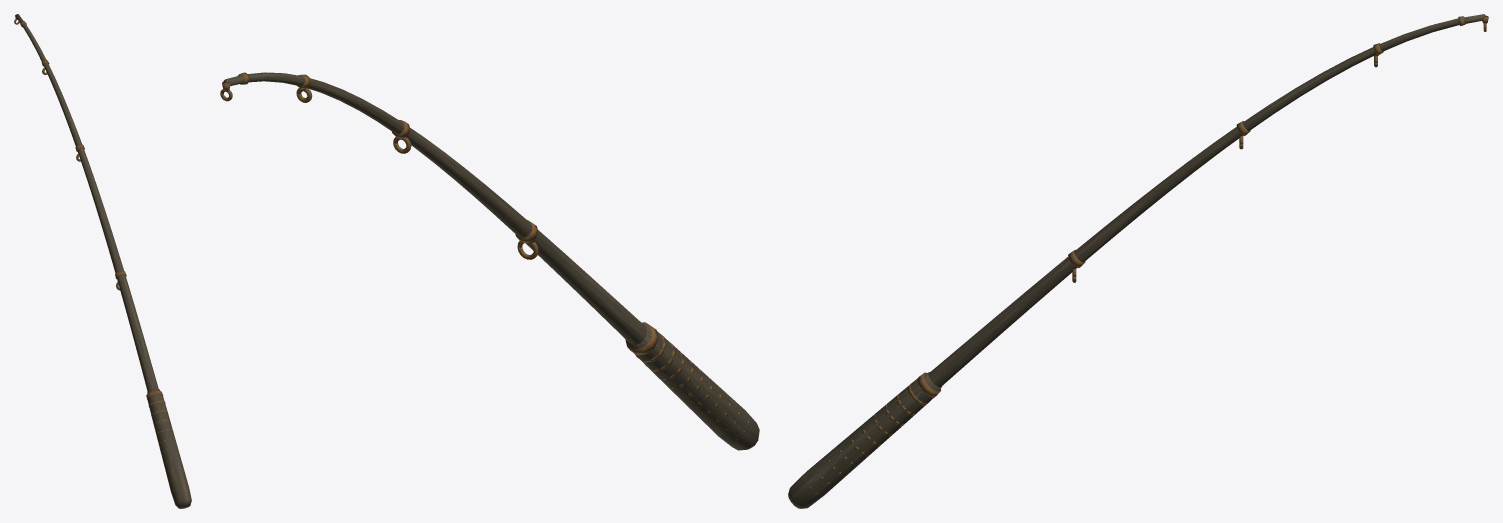
Rendered from rod.glb.
3 renders of one model, left to right at view 1: azimuth 30°, elevation 25°; view 2: azimuth 150°, elevation 25°; view 3: azimuth 270°, elevation 25°, orthographic. The views are drawn at different scales.
Parts seen in each view (by area): view 1: Aged oak mesh, Hammered bronze mesh; view 2: Aged oak mesh, Hammered bronze mesh; view 3: Aged oak mesh, Hammered bronze mesh.
Part boxes in pixels (x1,y1,x2,y2): Aged oak mesh: [15, 14, 191, 508]; Hammered bronze mesh: [14, 15, 188, 493]; Aged oak mesh: [223, 72, 759, 450]; Hammered bronze mesh: [220, 72, 749, 439]; Aged oak mesh: [788, 14, 1485, 508]; Hammered bronze mesh: [804, 15, 1488, 496].
Bounding box in the file's own units: 0.3333 × 1.85 × 2.22.
2 materials, 2 textured.
